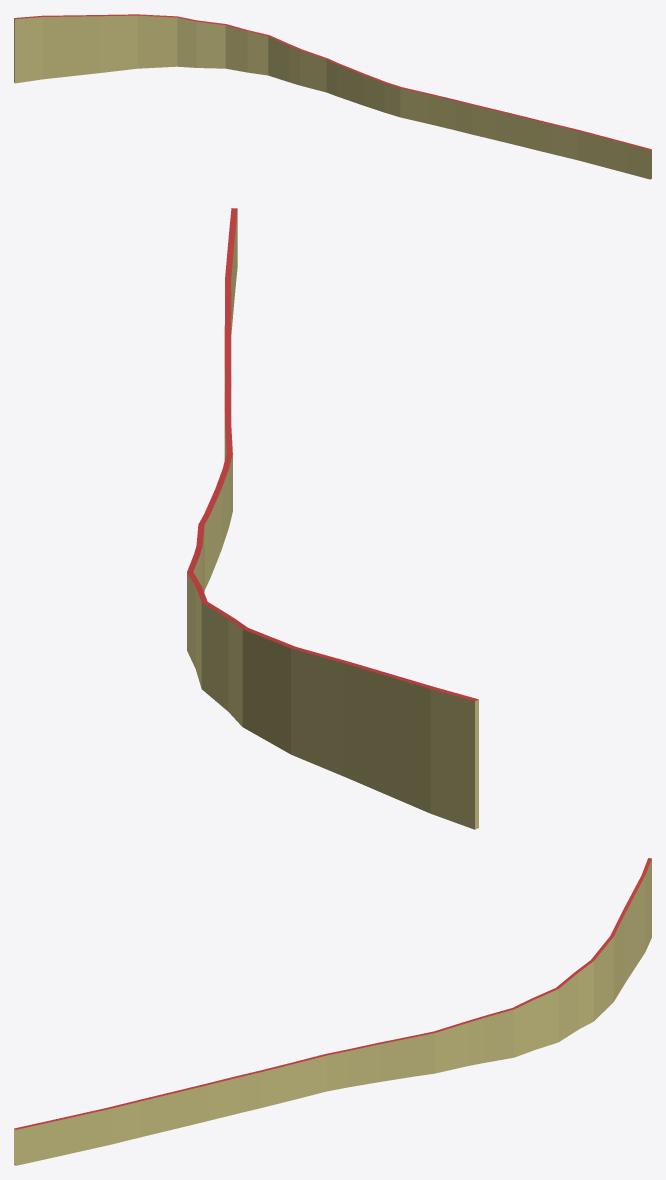
3 renders of one model, top to bottom at view 1: azimuth 30°, elevation 25°; view 2: azimuth 150°, elevation 25°; view 3: azimuth 270°, elevation 25°, orthographic. The views are drawn at different scales.
Bounding box in the file's own units: 91.16 × 107 × 14.71.
